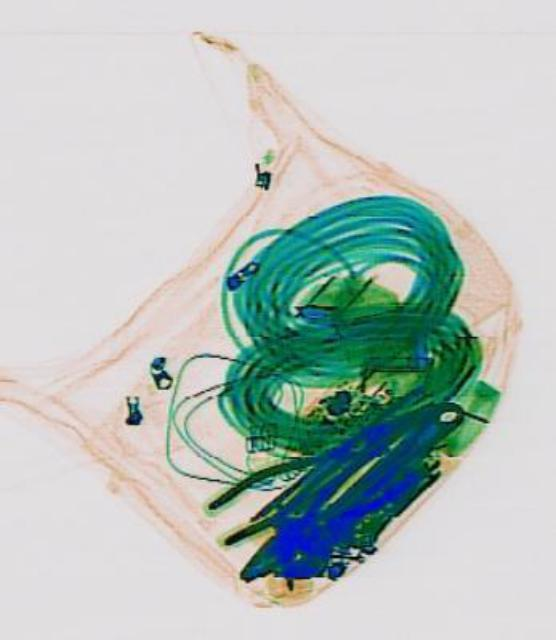Pliers: (220, 429, 414, 601), (200, 420, 372, 546)
Wrench: (259, 383, 472, 593)
